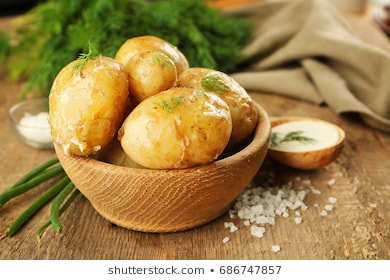boiled potatoes: (124, 38, 252, 124), (116, 90, 225, 160), (44, 60, 121, 154)
